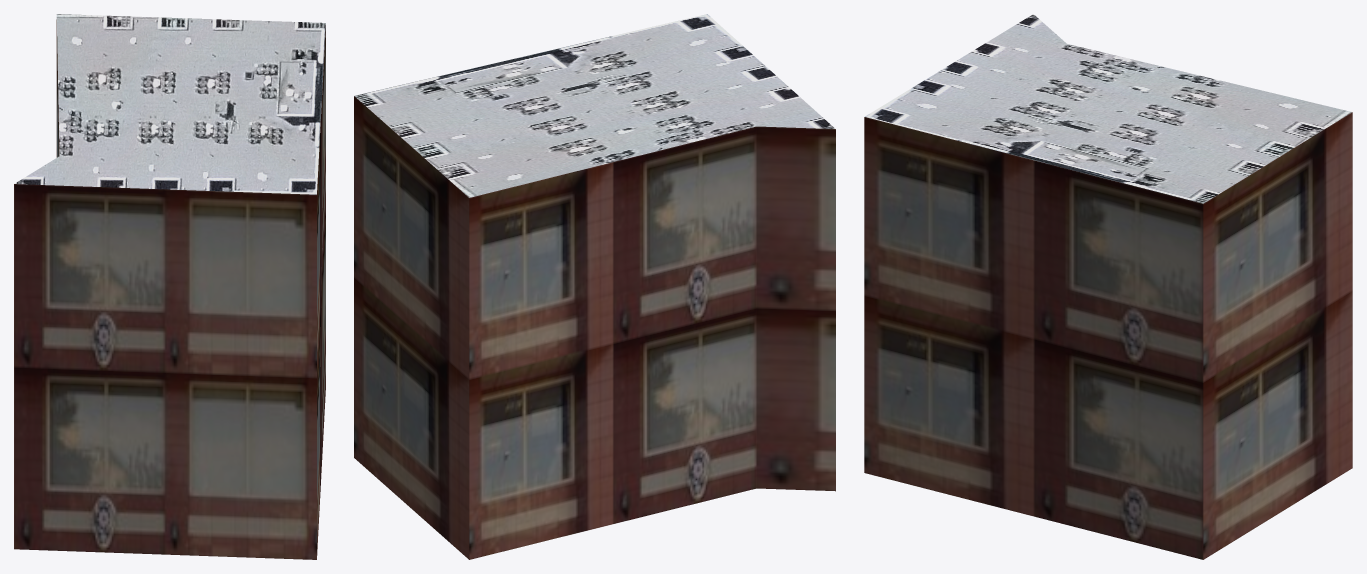
The model's file is ResTex__2745.fbx.
3 renders of one model, left to right at view 1: azimuth 30°, elevation 25°; view 2: azimuth 150°, elevation 25°; view 3: azimuth 270°, elevation 25°, orthographic. The views are drawn at different scales.
Parts seen in each view (by area): view 1: CityEngineMaterial_13_m, CityEngineMaterial_2_m; view 2: CityEngineMaterial_13_m, CityEngineMaterial_2_m; view 3: CityEngineMaterial_13_m, CityEngineMaterial_2_m.
Boxes of the visible parts, x1,y1,x2,y2 form: CityEngineMaterial_13_m: [14, 19, 325, 559]; CityEngineMaterial_2_m: [14, 14, 325, 194]; CityEngineMaterial_13_m: [354, 96, 835, 559]; CityEngineMaterial_2_m: [354, 14, 835, 197]; CityEngineMaterial_13_m: [864, 112, 1352, 559]; CityEngineMaterial_2_m: [865, 14, 1352, 203].
Size of the model in its own units: 6.86 by 6 by 7.45.
Materials: 2 (2 with a texture image).
